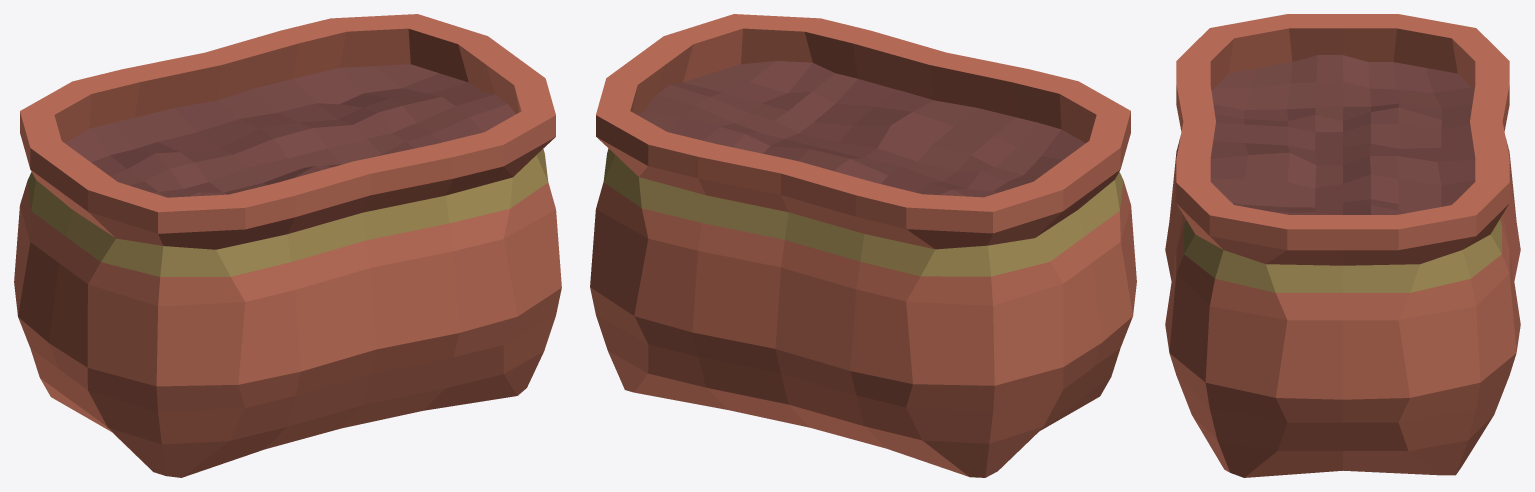
The model's file is middle_pot.glb.
The picture shows the model from 3 angles, left to right: view 1: azimuth 30°, elevation 25°; view 2: azimuth 150°, elevation 25°; view 3: azimuth 270°, elevation 25°; orthographic projection. The views are drawn at different scales.
Visible parts, largest first — view 1: Куб; view 2: Куб; view 3: Куб.
Part boxes in pixels (x1=…): Куб: x1=14, y1=14, x2=561, y2=477; Куб: x1=590, y1=14, x2=1136, y2=477; Куб: x1=1165, y1=14, x2=1520, y2=477.
Size of the model in its own units: 1.96 by 1.11 by 1.31.
